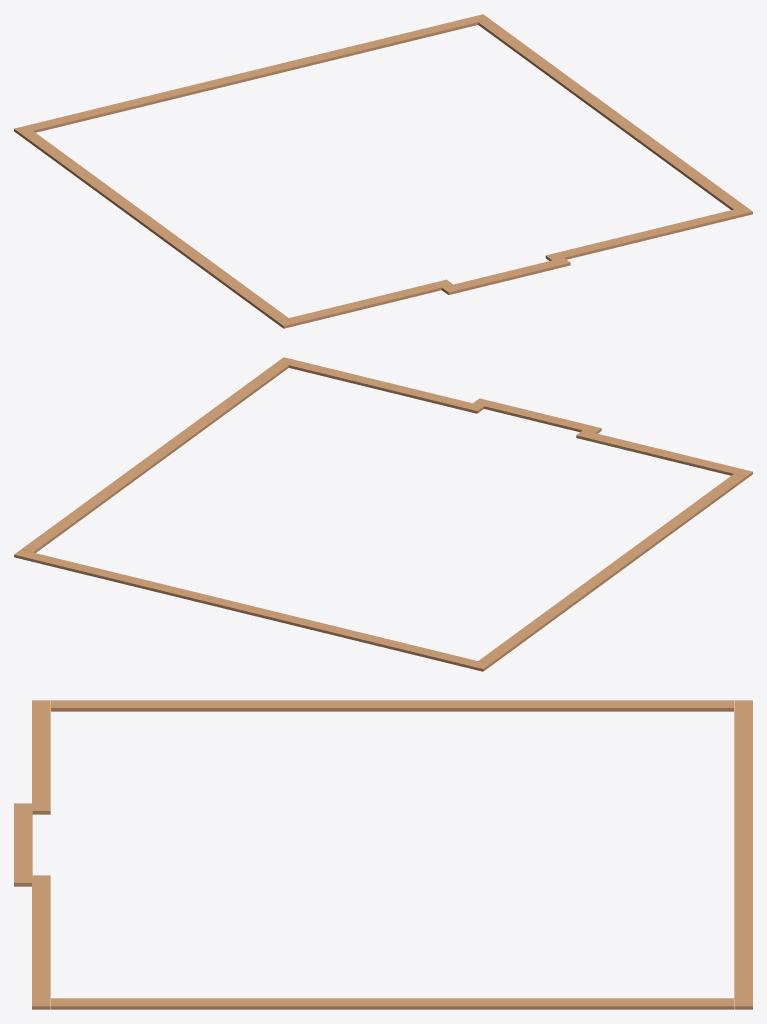
The model's file is Haus_Zimmermann_latten.fbx.
3 views of the same model, one above another, from view 1: azimuth 30°, elevation 25°; view 2: azimuth 150°, elevation 25°; view 3: azimuth 270°, elevation 25° (orthographic). The views are drawn at different scales.
Parts seen in each view (by area): view 1: Haus_Zimmermann_latten; view 2: Haus_Zimmermann_latten; view 3: Haus_Zimmermann_latten.
Part boxes in pixels (x1=…): Haus_Zimmermann_latten: x1=14, y1=14, x2=752, y2=328; Haus_Zimmermann_latten: x1=14, y1=357, x2=752, y2=671; Haus_Zimmermann_latten: x1=14, y1=700, x2=752, y2=1009.
Size of the model in its own units: 962 by 5.23 by 982.
